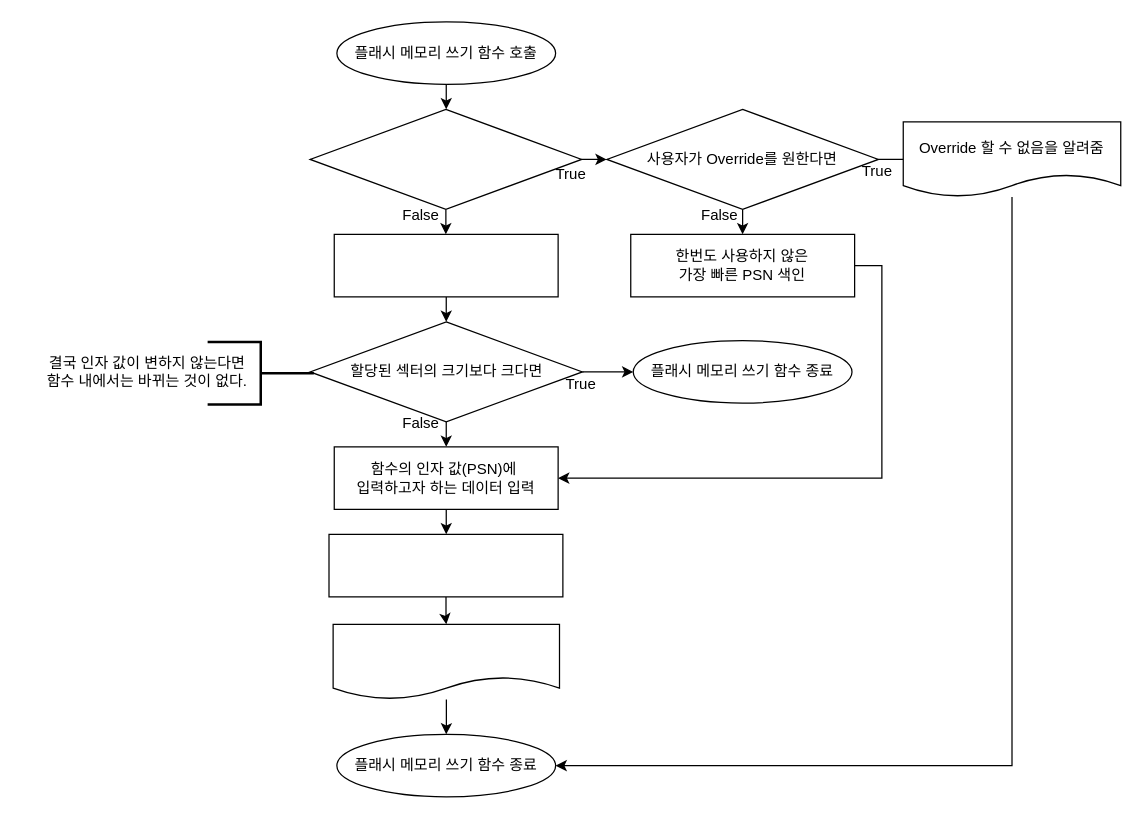
The diagram is 1143 pixels wide and 819 high, and some of its shapes have lost their labels. Here are the shapes that lost their labels. From the top down, the centre of each, then its label:
the point at 445,158: 함수 인자 값(PSN)의 섹터가 사용중이라면
the point at 445,265: 함수의 인자 값(PSN)과 할당된 섹터의 크기를 비교
the point at 445,565: 함수 인자 값(PSN)의 해당 섹터의 데이터 크기 변수에 크기 입력
the point at 446,661: 해당 섹터의 인덱스와 데이터 크기만큼 데이터를 출력해준다.
